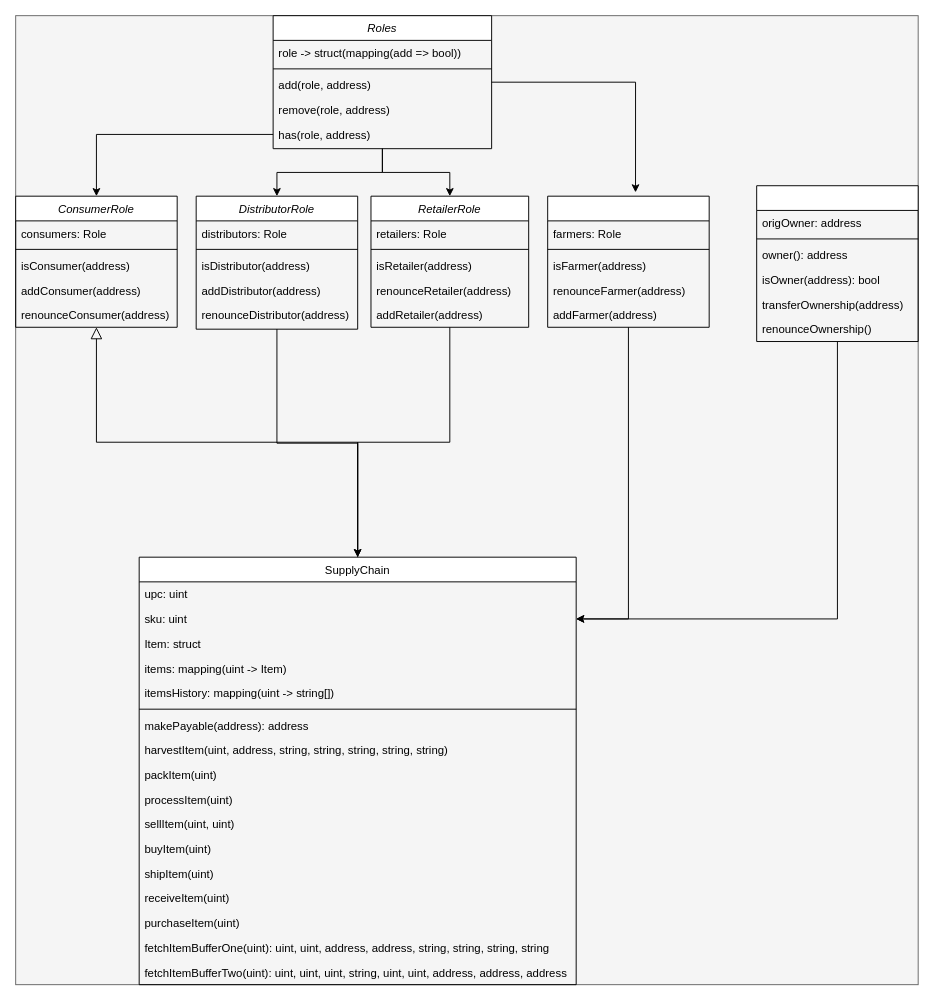
Image size: 934x1000. Some labels were removed from this diagram. The box of each missing label's shape, as (x1, y1, x2, y2) in pixels:
FarmerRole: (547, 195, 709, 327)
Ownable: (756, 185, 918, 342)
